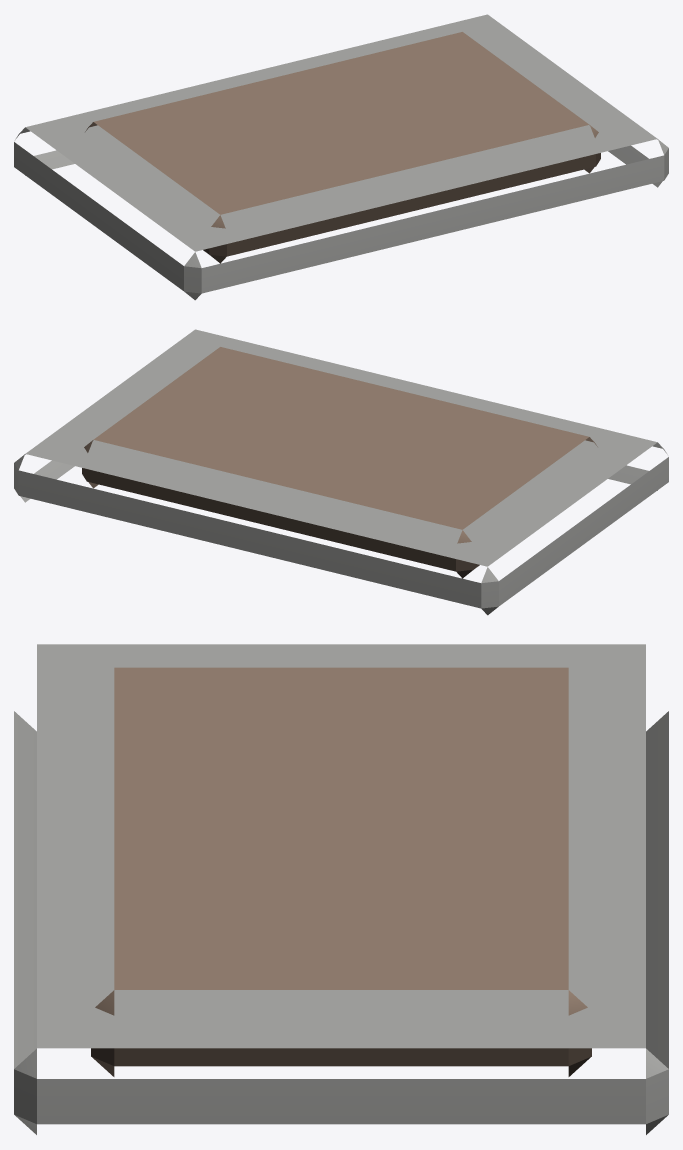
Rendered from drain_grate.glb.
The picture shows the model from 3 angles, top to bottom: view 1: azimuth 30°, elevation 25°; view 2: azimuth 150°, elevation 25°; view 3: azimuth 270°, elevation 25°; orthographic projection. The views are drawn at different scales.
Parts seen in each view (by area): view 1: props_drain_grate; view 2: props_drain_grate; view 3: props_drain_grate.
Part boxes in pixels (x1,y1,x2,y2): props_drain_grate: (14, 14, 668, 300); props_drain_grate: (14, 329, 668, 615); props_drain_grate: (14, 644, 668, 1134).
Size of the model in its own units: 0.52 by 0.06 by 0.34.
